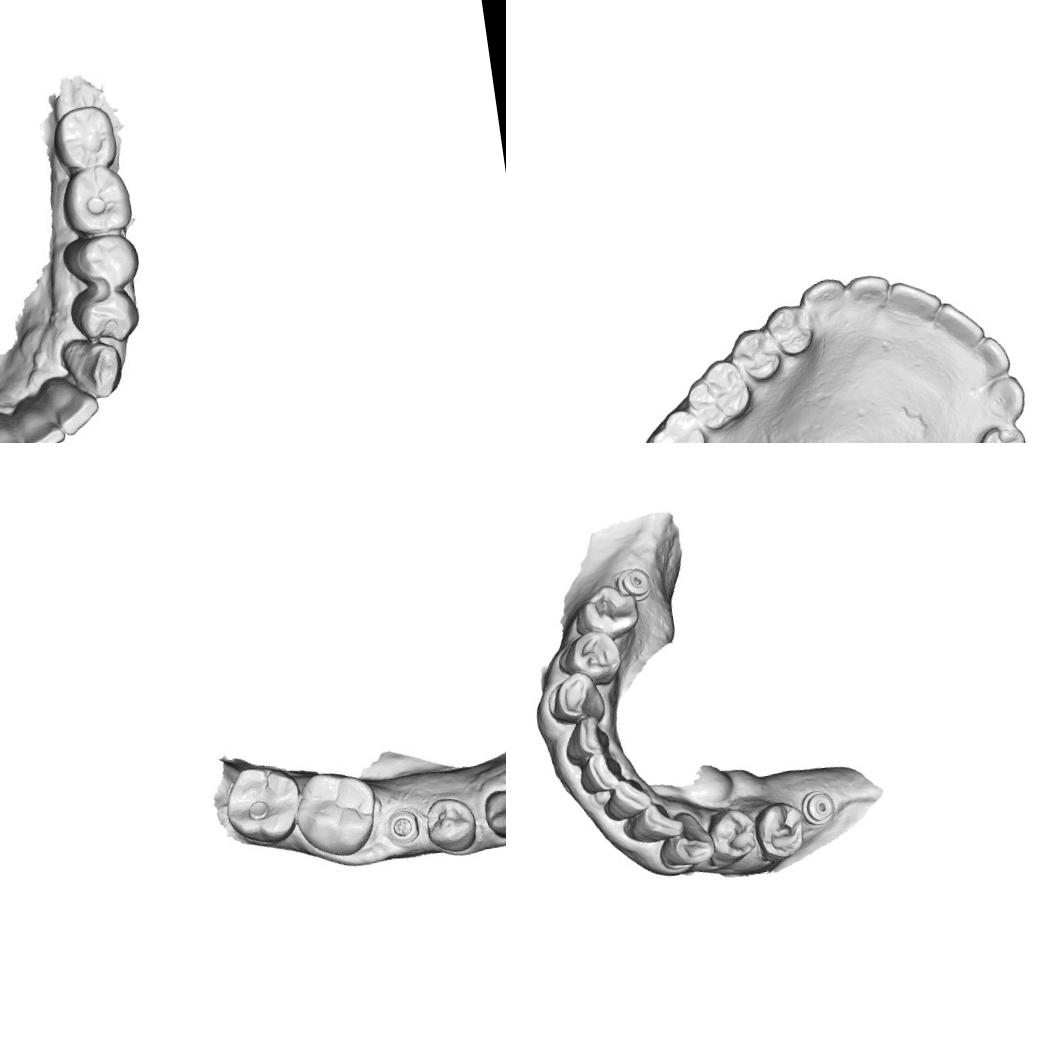canine: (65, 339, 129, 405), (653, 808, 719, 872), (544, 668, 608, 728), (980, 370, 1036, 424), (798, 276, 849, 318), (479, 784, 506, 841)
implant: (381, 804, 427, 850), (610, 563, 655, 605), (798, 787, 839, 828)
incisor: (883, 274, 944, 330), (619, 798, 686, 848), (928, 296, 984, 352), (560, 713, 614, 766), (45, 375, 95, 431), (599, 774, 655, 824), (575, 747, 627, 798), (15, 393, 63, 443), (842, 266, 890, 314), (970, 334, 1016, 381), (0, 410, 28, 443)
molar: (293, 764, 383, 862), (218, 758, 308, 848), (681, 354, 756, 434), (68, 164, 130, 231), (58, 106, 114, 171), (644, 408, 711, 443)
premolar: (553, 626, 626, 691), (570, 580, 642, 644), (750, 798, 810, 866), (702, 804, 760, 872), (422, 794, 480, 857), (80, 288, 140, 346), (81, 231, 140, 289), (730, 324, 782, 385), (763, 298, 814, 358), (975, 419, 1028, 443)
